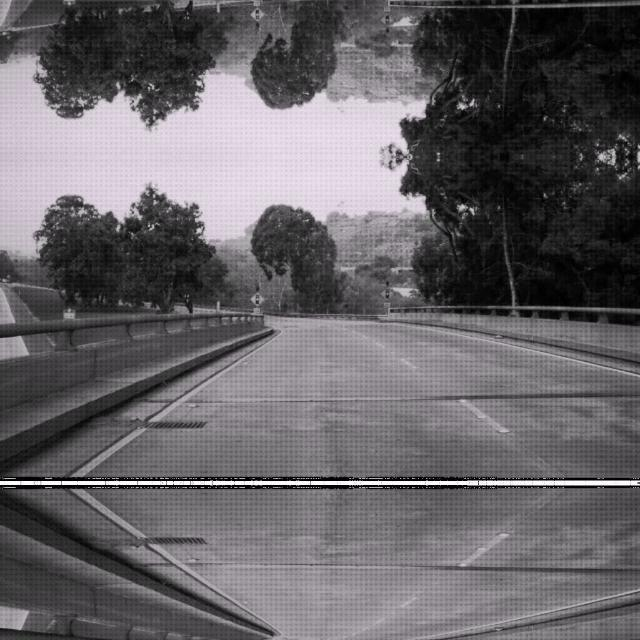signalAhead: (380, 284, 394, 300), (250, 290, 264, 306), (380, 12, 394, 28), (250, 6, 264, 22)
